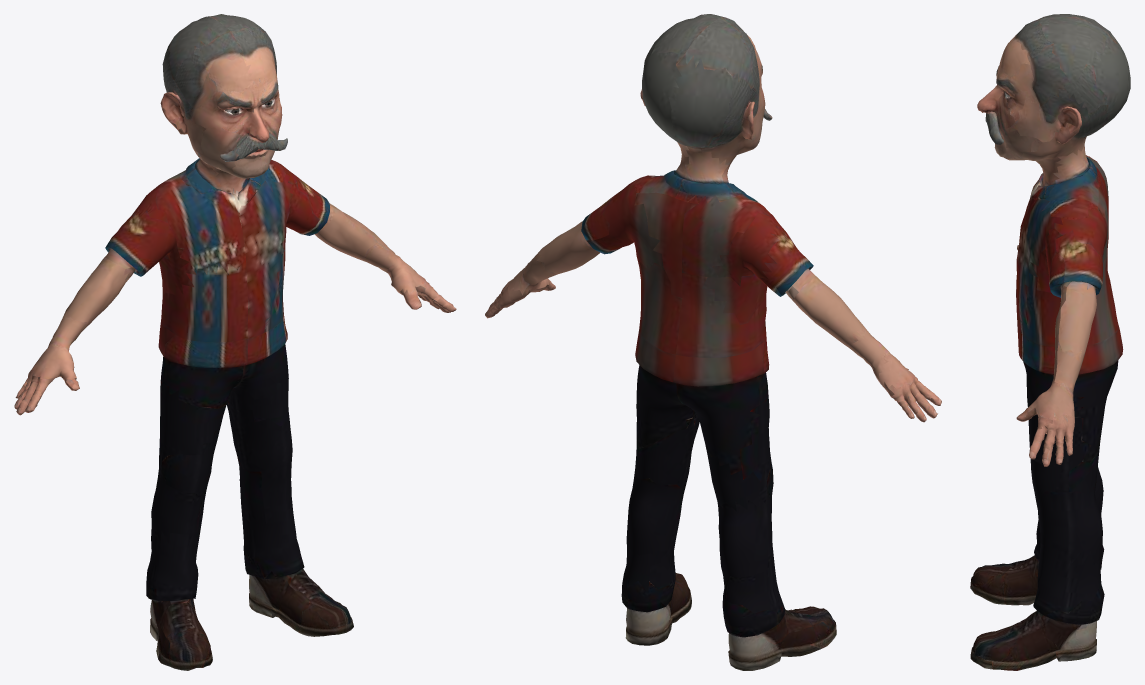
The model's file is gus.glb.
3 renders of one model, left to right at view 1: azimuth 30°, elevation 25°; view 2: azimuth 150°, elevation 25°; view 3: azimuth 270°, elevation 25°, orthographic. The views are drawn at different scales.
Visible parts, largest first — view 1: mesh_node; view 2: mesh_node; view 3: mesh_node.
Part boxes in pixels (x1,y1,x2,y2): mesh_node: (14,14,456,670); mesh_node: (485,14,941,670); mesh_node: (970,14,1130,670).
Size of the model in its own units: 0.7539 by 1 by 0.2397.
Materials: 1 (1 with a texture image).
